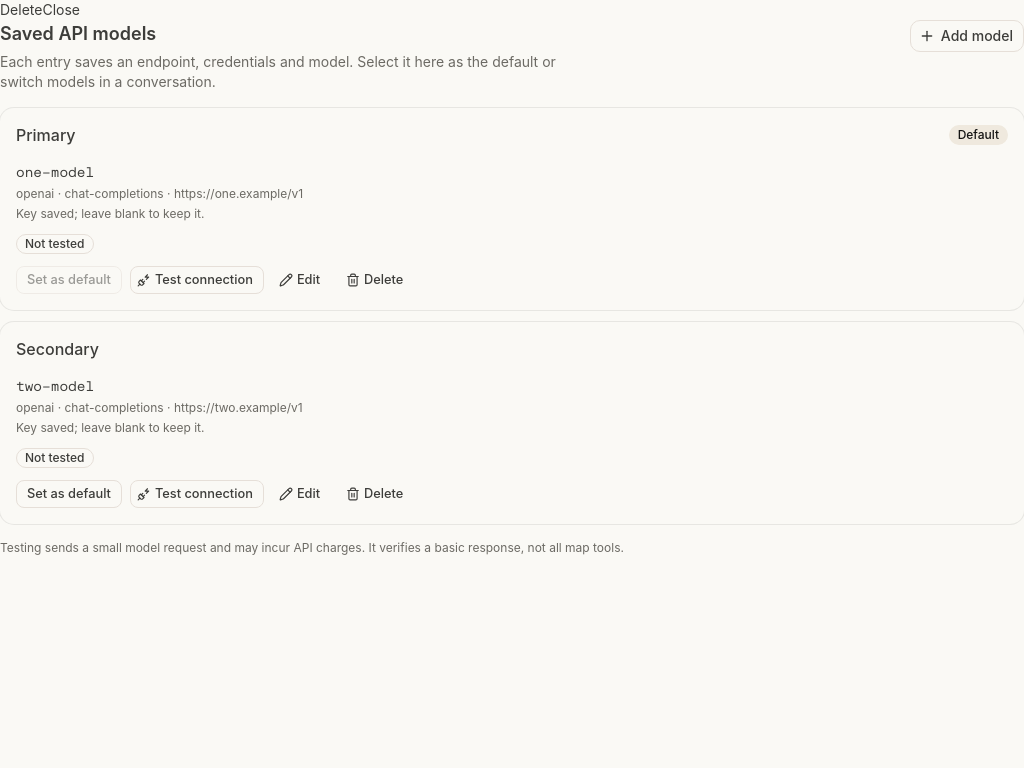
Scenario: API profile settings › labels the delete-dialog close action in en
Click the button "Delete" below "https://two.example/v1" at x=377, y=494, box [339,480,414,508]
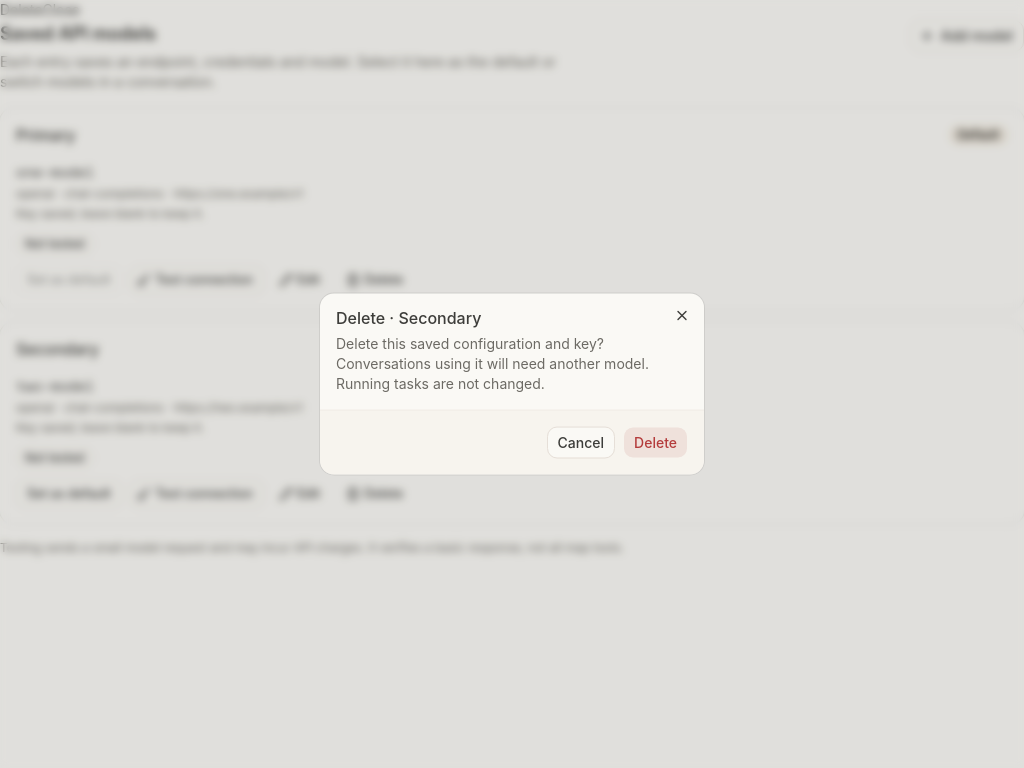
Click the button named "Close" at x=682, y=316, box [668,302,696,330]
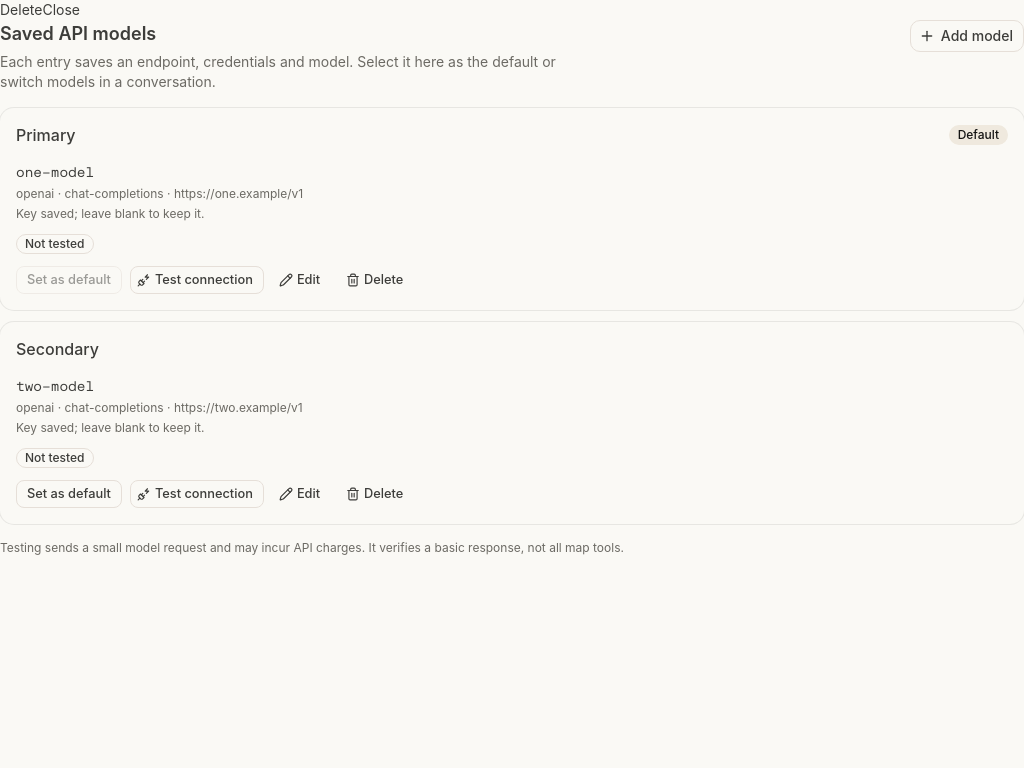
expect the dialog is gone: met
